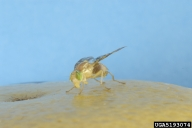Fruit fly: (60, 50, 140, 100)
